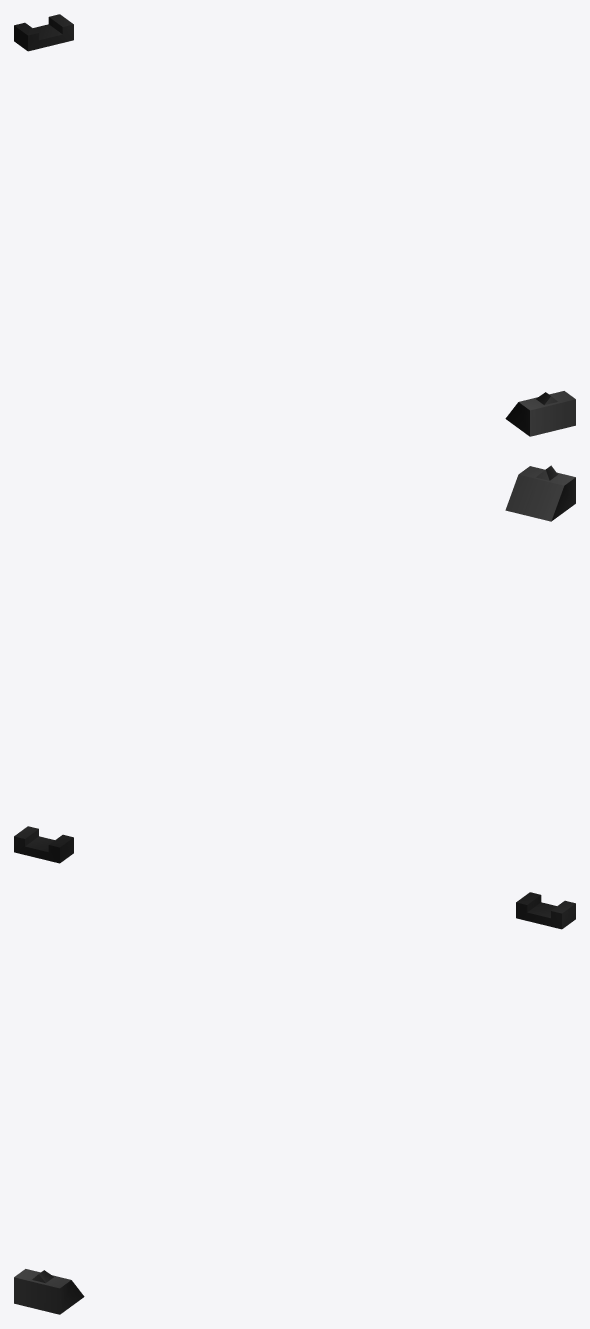
File: ShotgunIronSights_mesh.fbx
3 renders of one model, top to bottom at view 1: azimuth 30°, elevation 25°; view 2: azimuth 150°, elevation 25°; view 3: azimuth 330°, elevation 25°, orthographic.
Visible parts, largest first — view 1: ShotgunIronSights_mesh; view 2: ShotgunIronSights_mesh; view 3: ShotgunIronSights_mesh.
Boxes of the visible parts, x1,y1,x2,y2 form: ShotgunIronSights_mesh: (14,14,575,436); ShotgunIronSights_mesh: (14,465,575,863); ShotgunIronSights_mesh: (14,892,575,1314).
Size of the model in its own units: 2.23 by 1.58 by 43.51.
